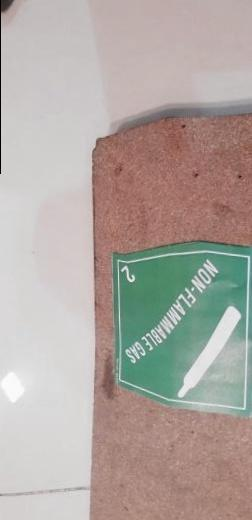non-flammable-gas: (112, 242, 252, 420)
